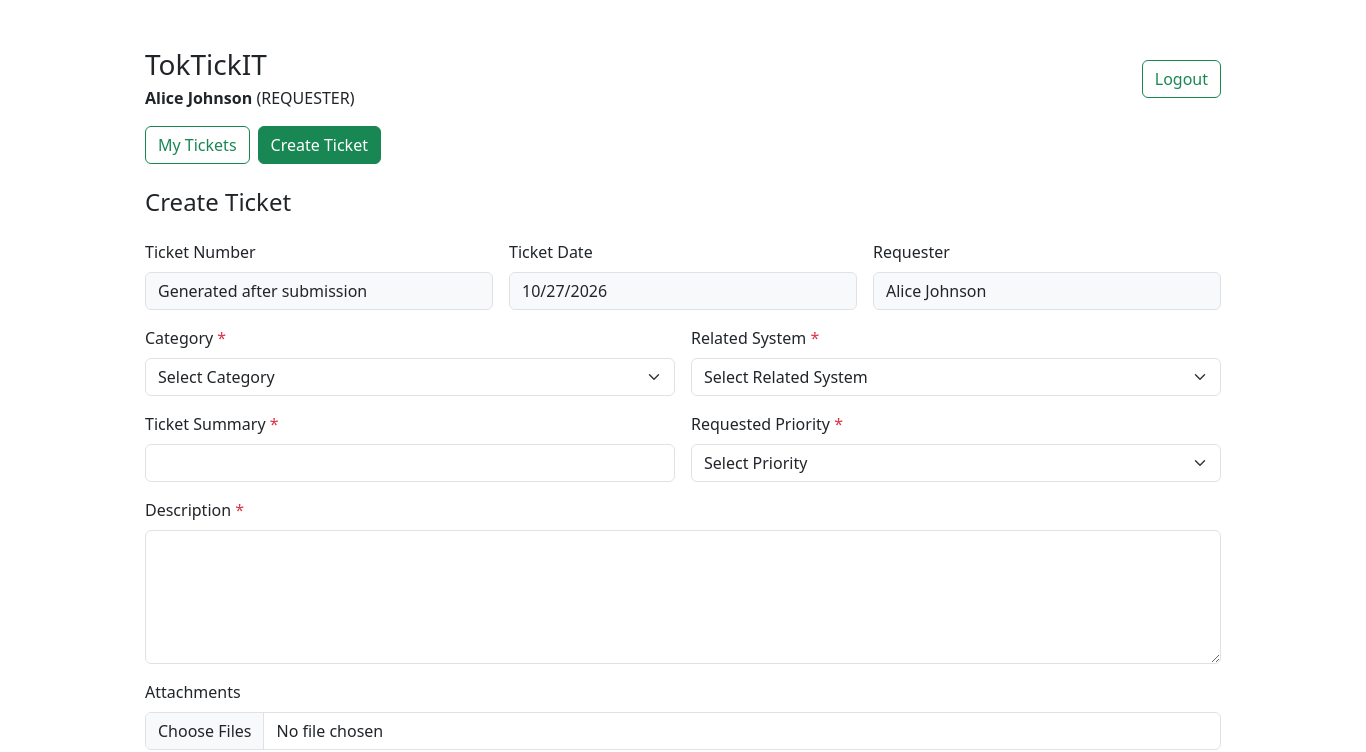
Test: Create Ticket › creates a Ticket successfully and displays the official Ticket Number
Expected: the heading "Create Ticket" is shown, [145, 185, 291, 218]
Select "Hardware" in the dropdown labelled "Category *" at point(410, 377), box [145, 358, 675, 396]
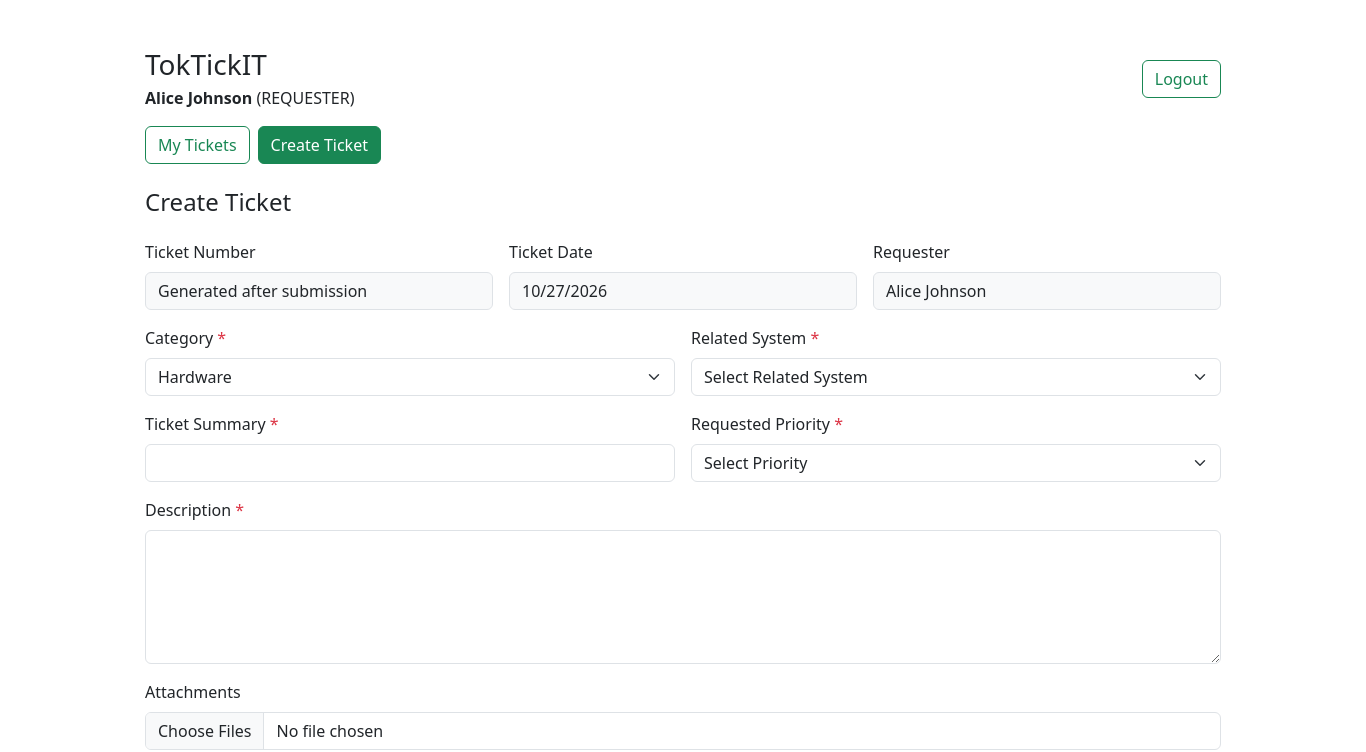
Select "Corporate Laptop" in the dropdown labelled "Related System *" at point(956, 377), box [691, 358, 1221, 396]
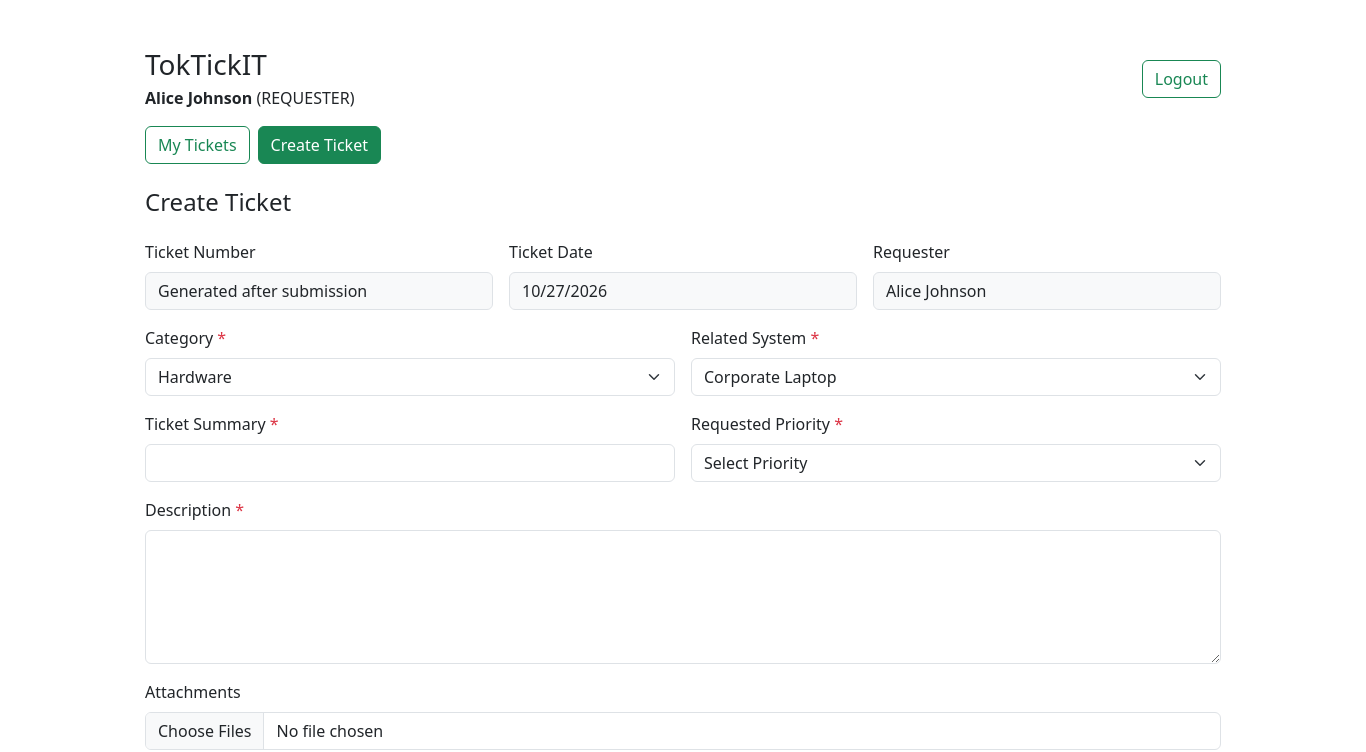
Select "Medium" in the dropdown labelled "Requested Priority *" at point(956, 463), box [691, 444, 1221, 482]
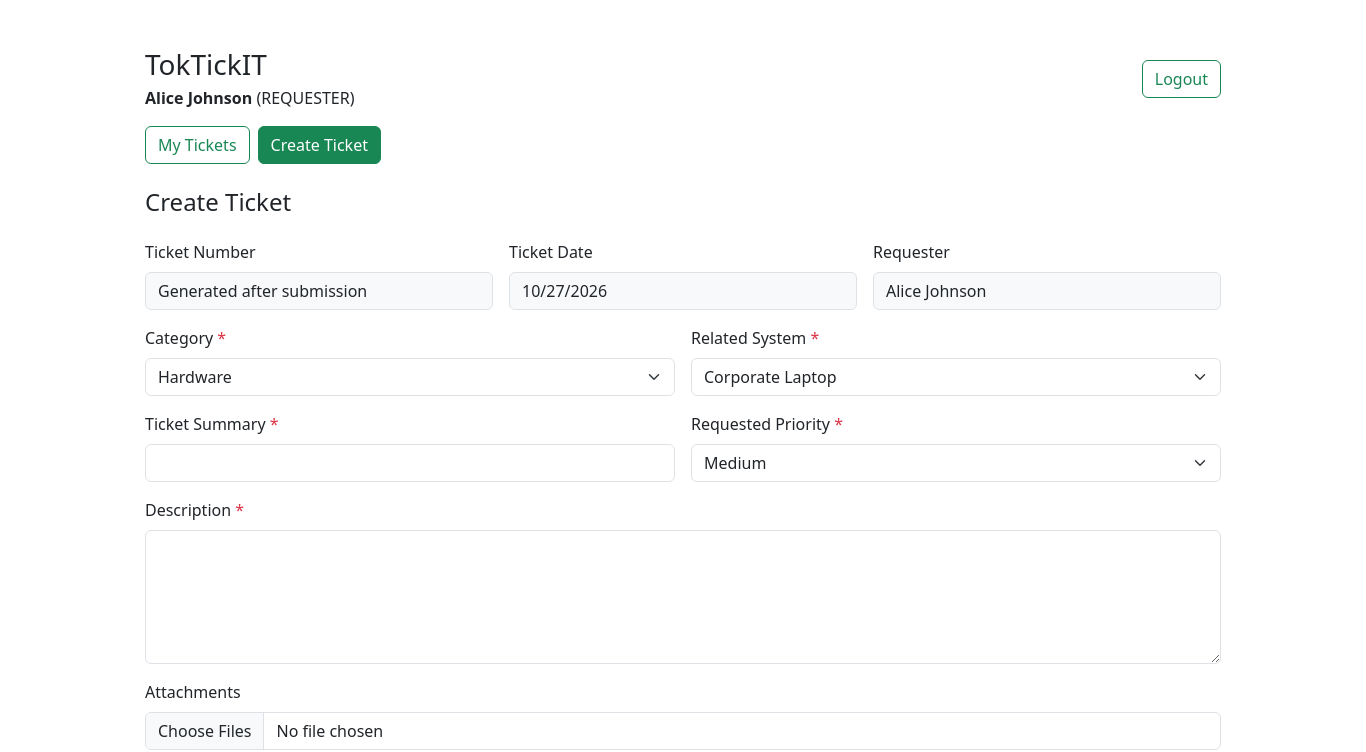
Type "Laptop battery problem" into the field labelled "Ticket Summary *".
click(410, 463); type("Laptop battery problem")  # box [145, 444, 675, 482]
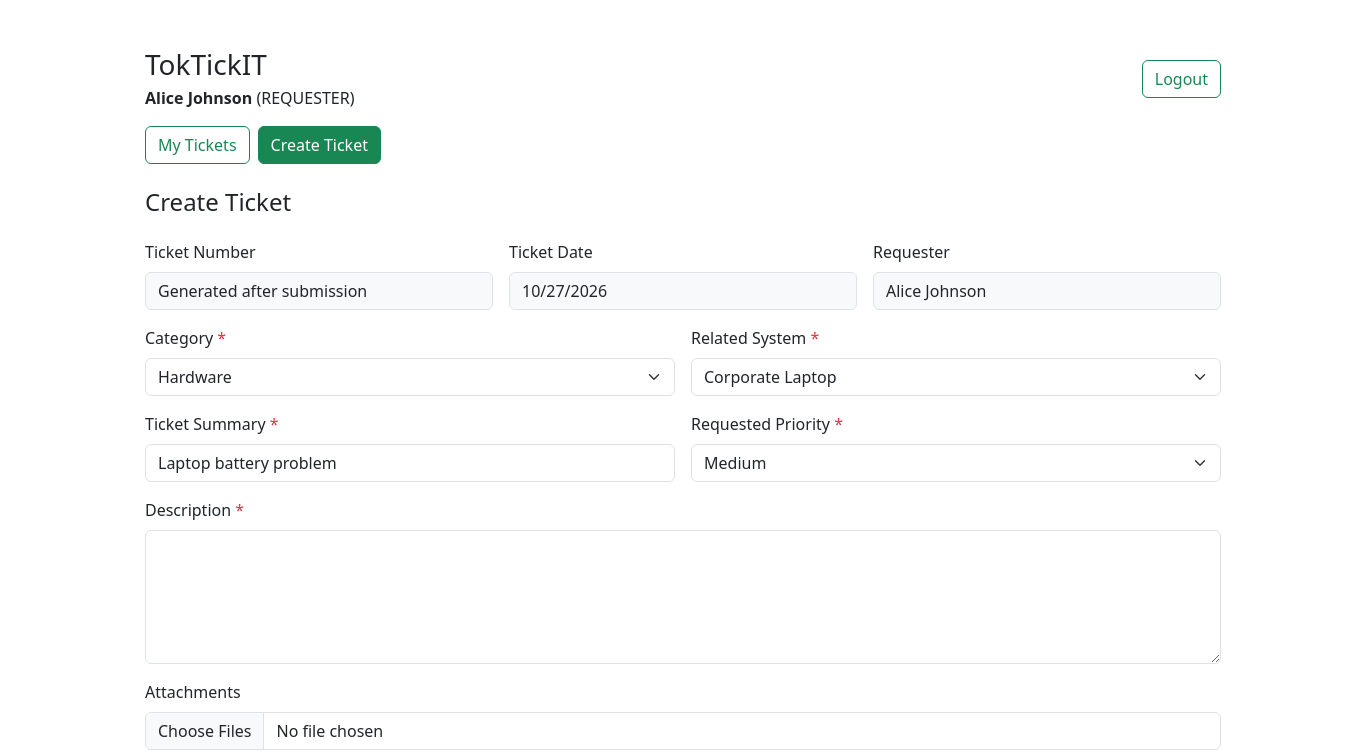
Type "The laptop battery becomes empty after approximately one hour." into the text box labelled "Description *".
click(683, 597); type("The laptop battery becomes empty after approximately one hour.")  # box [145, 530, 1221, 664]
(page scrolled)
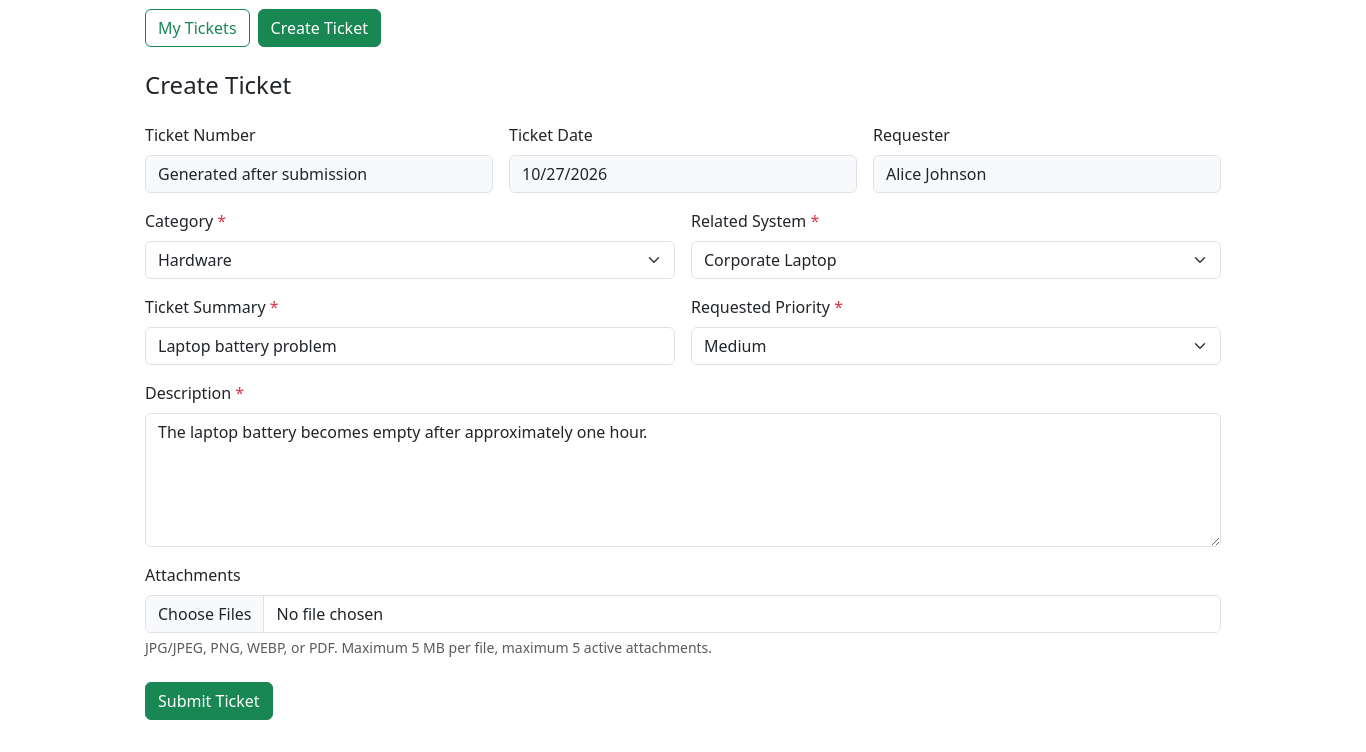
Click the button "Submit Ticket".
click(209, 701)  # box [145, 682, 273, 720]
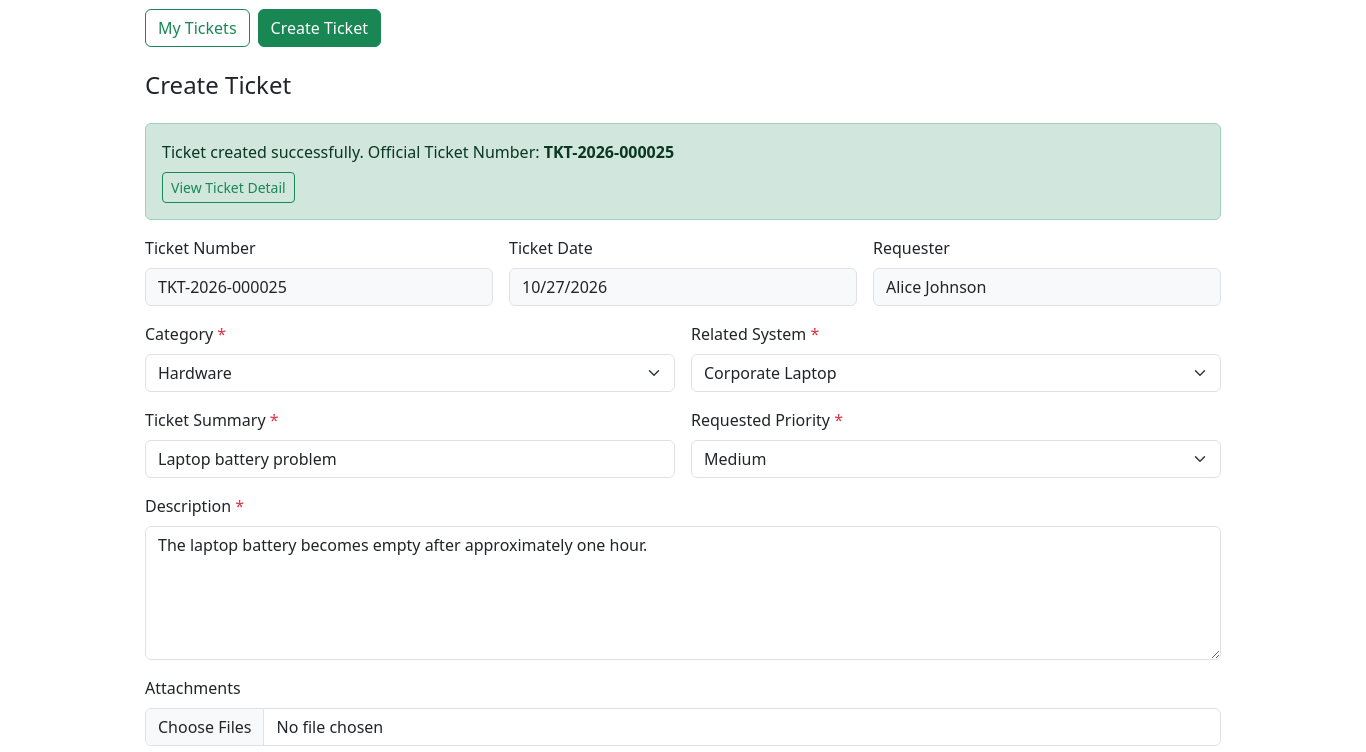
Expected: the text "Ticket created successfully" is shown, [162, 141, 540, 163]
Expected: the text "TKT-2026-000025" is shown, [544, 141, 674, 163]
